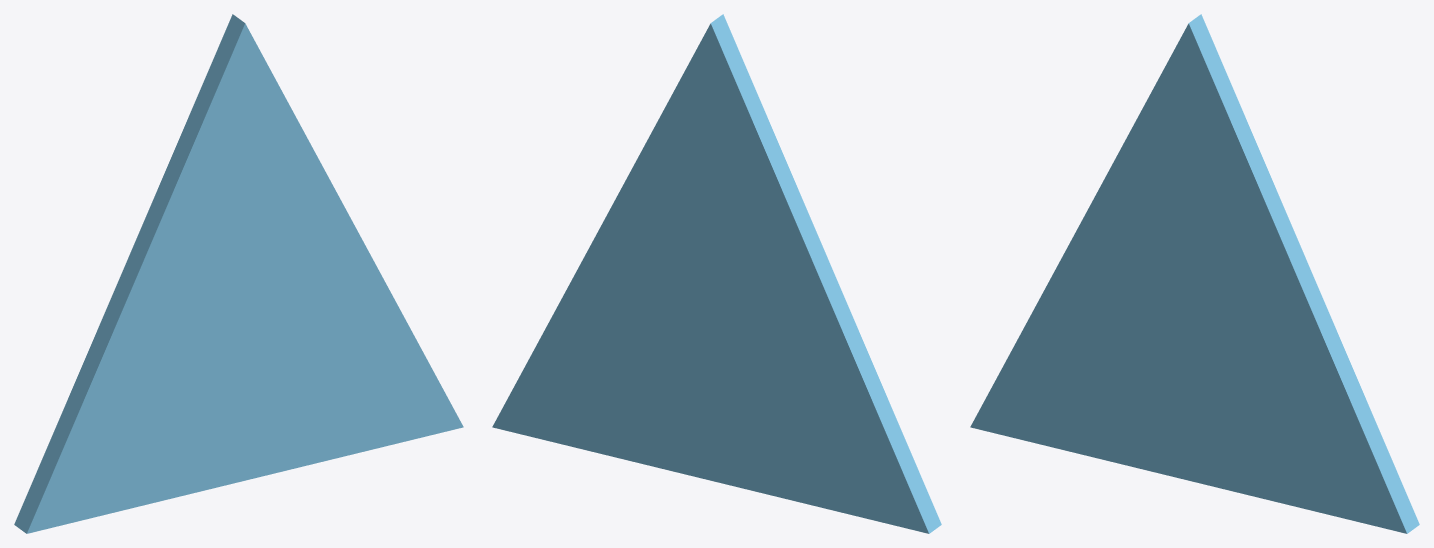
Rendered from triangolo_isoscele_grande.glb.
The picture shows the model from 3 angles, left to right: view 1: azimuth 30°, elevation 25°; view 2: azimuth 150°, elevation 25°; view 3: azimuth 330°, elevation 25°; orthographic projection.
Visible parts, largest first — view 1: triangolo_isoscele_grande; view 2: triangolo_isoscele_grande; view 3: triangolo_isoscele_grande.
Boxes of the visible parts, x1,y1,x2,y2 form: triangolo_isoscele_grande: [14, 14, 463, 533]; triangolo_isoscele_grande: [492, 14, 941, 533]; triangolo_isoscele_grande: [970, 14, 1419, 533].
Bounding box in the file's own units: 1 × 1 × 0.05.
